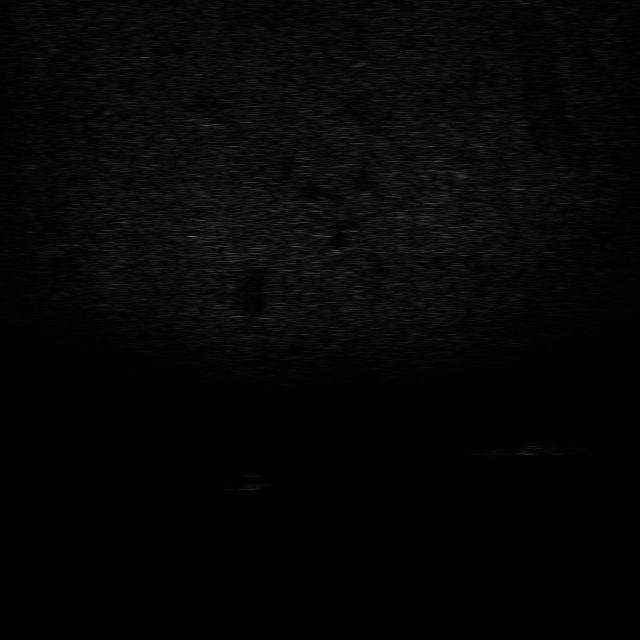ball: (226, 471, 270, 494)
human body: (468, 432, 582, 461)
